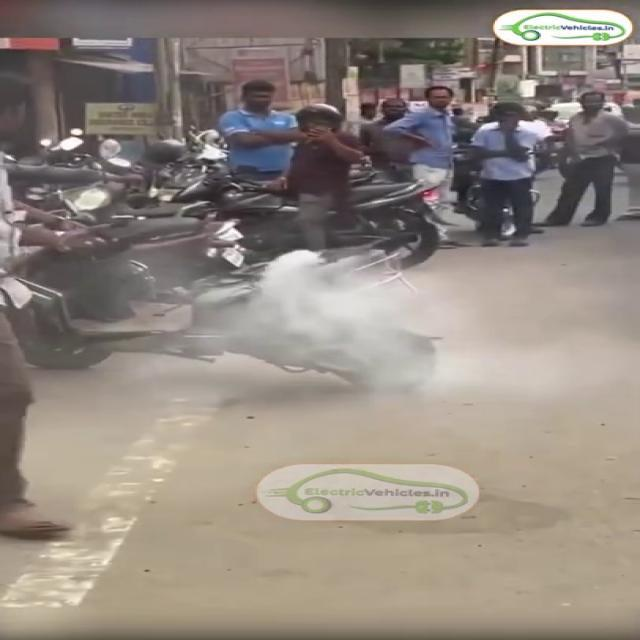Smoke: (240, 239, 450, 402)
